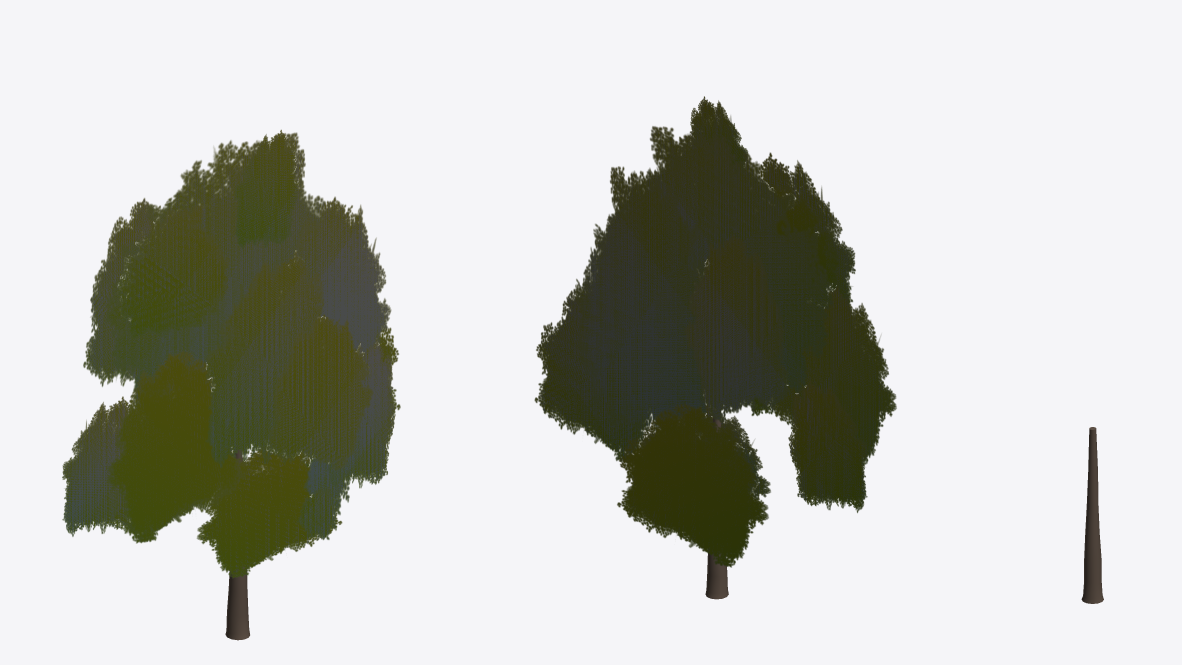
Rendered from tree_medium_upright_asymmetric_canopy_lod1.glb.
3 views of the same model, side by side, from view 1: azimuth 30°, elevation 25°; view 2: azimuth 150°, elevation 25°; view 3: azimuth 270°, elevation 25° (orthographic). The views are drawn at different scales.
Parts seen in each view (by area): view 1: TreeHLOD1_Foliage, Camphor_Trunk_Stylized; view 2: TreeHLOD1_Foliage, Camphor_Trunk_Stylized; view 3: Camphor_Trunk_Stylized.
Boxes of the visible parts, x1,y1,x2,y2 form: TreeHLOD1_Foliage: (62,129,400,578); Camphor_Trunk_Stylized: (225,446,249,640); TreeHLOD1_Foliage: (534,96,896,567); Camphor_Trunk_Stylized: (705,409,728,599); Camphor_Trunk_Stylized: (1081,427,1103,603).
Bounding box in the file's own units: 14.94 × 17.85 × 6.14.
2 materials, 1 textured.
